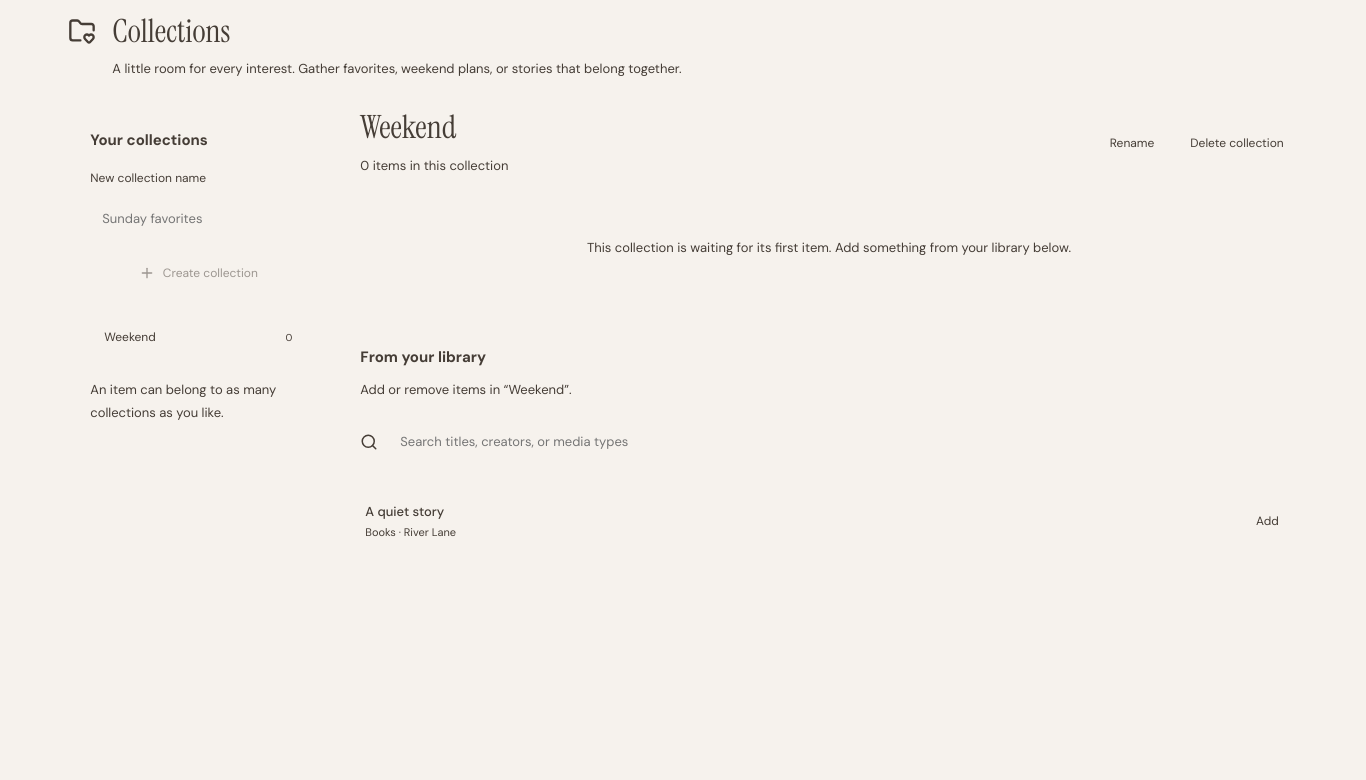
renames and requires explicit confirmation before deleting only the collection
Step 1. Click the button "Rename" → point(1132, 143), box [1096,121,1168,165]
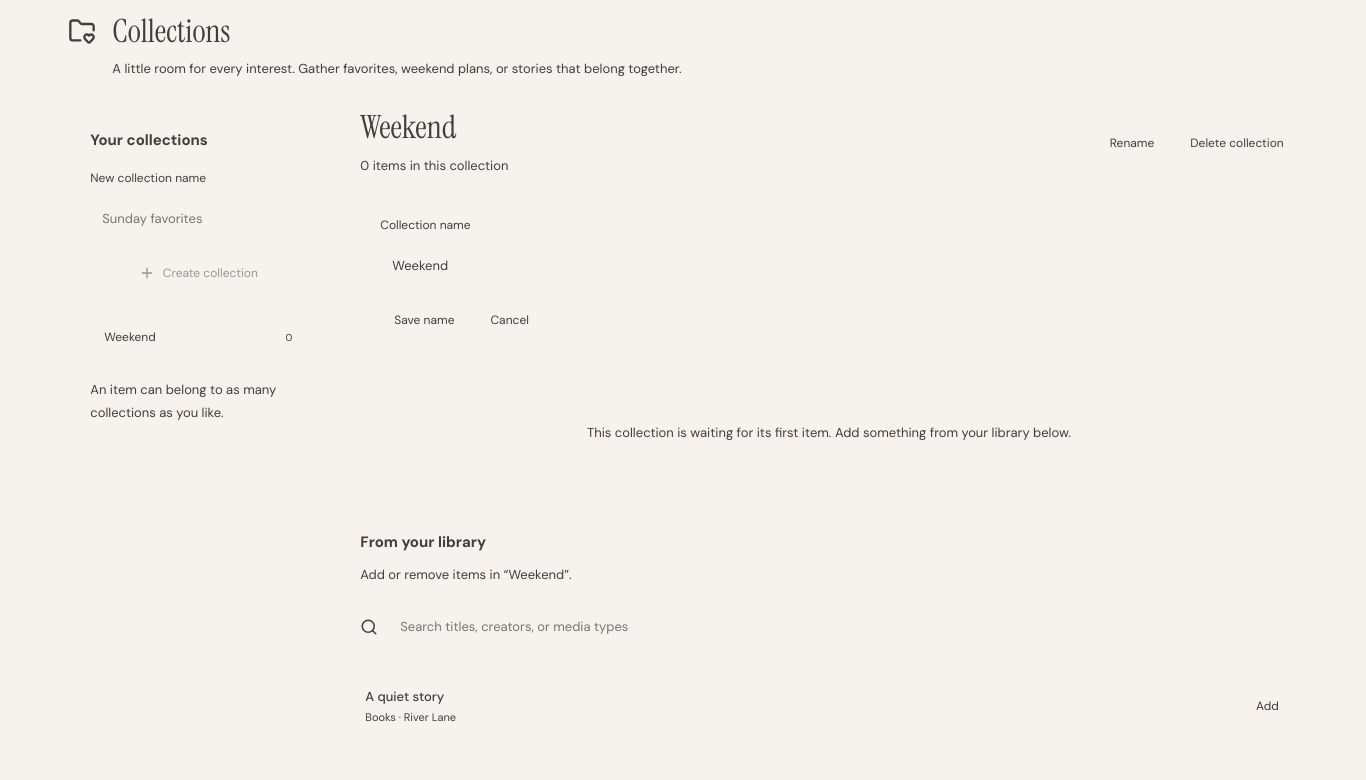
Step 2. Replace the text in the field labelled "Collection name" with "Slow Sundays" → point(829, 266), box [380,245,1278,286]
Step 3. Click the button "Save name" → point(424, 320), box [380,298,468,342]
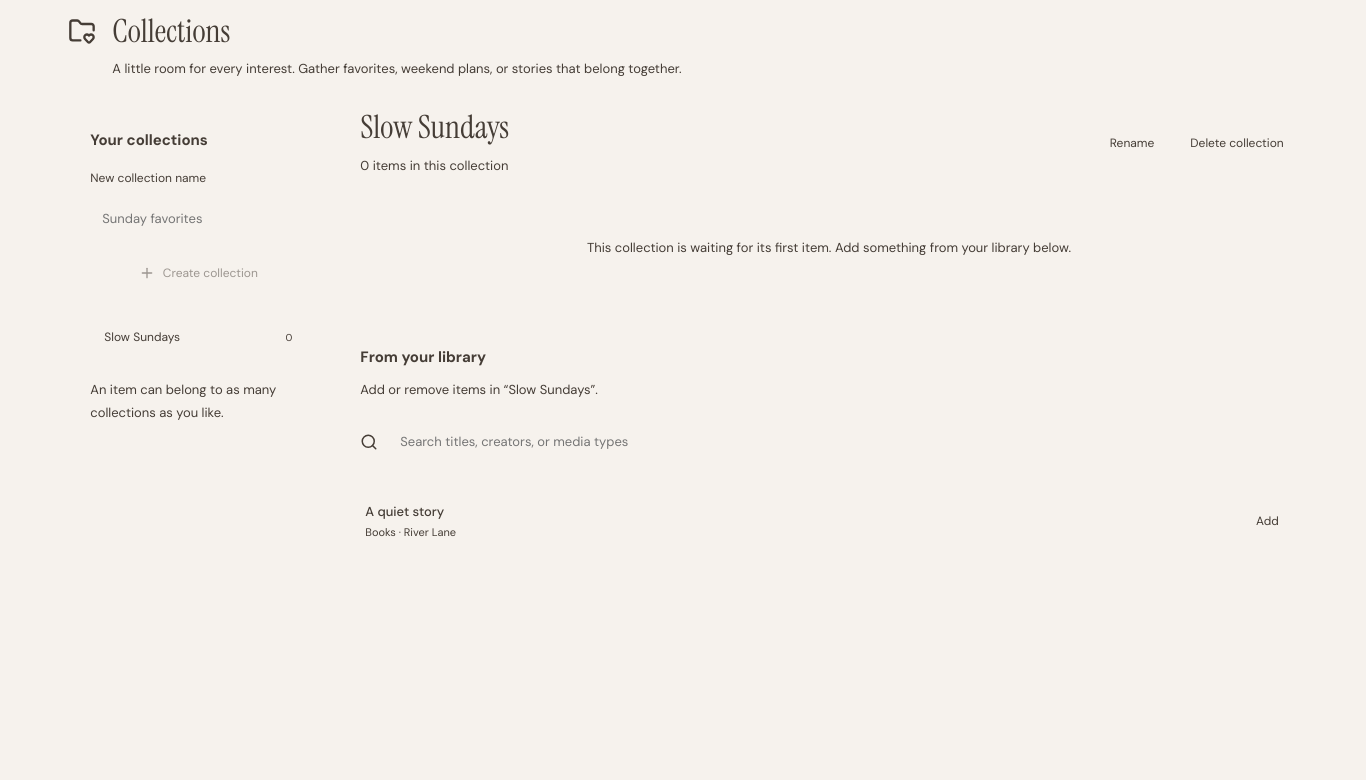
Check: the heading "Slow Sundays" is shown, box [360,108,509,147]
Step 4. Click the button "Delete collection" → point(1237, 143), box [1176,121,1298,165]
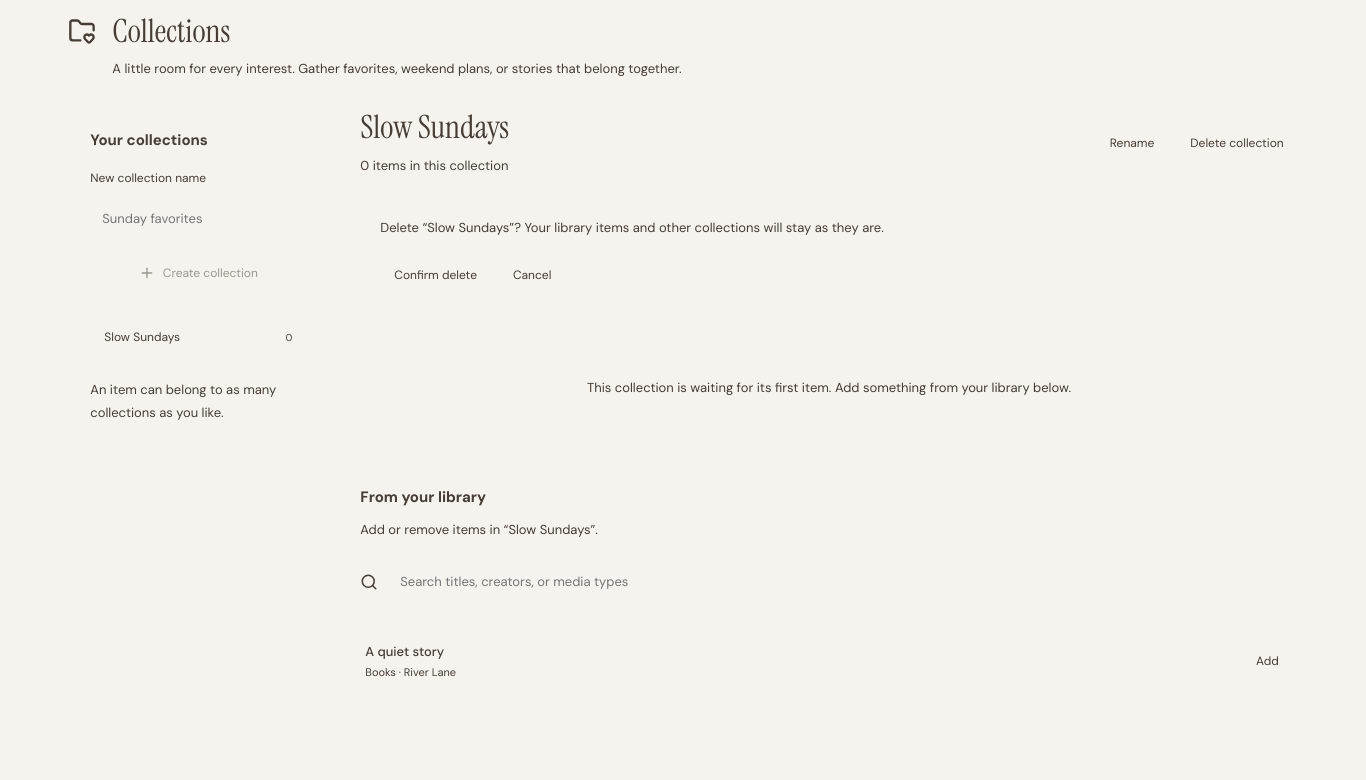
Check: the element named "Confirm collection deletion" shows "Your library items and other collections will stay as they are.", box [509,219,884,236]
Step 5. Click the button "Cancel" → point(532, 275), box [499,253,565,297]
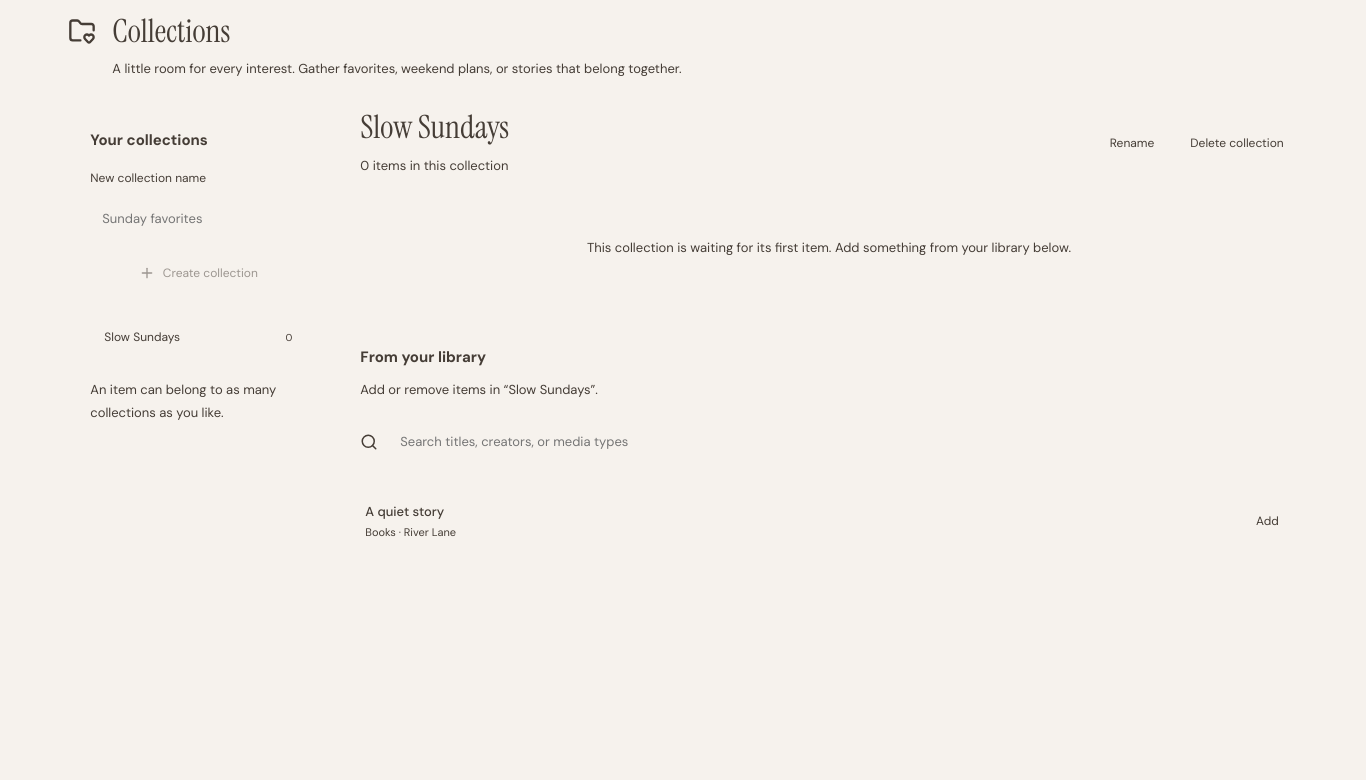
Step 6. Click the button "Delete collection" → point(1237, 143), box [1176,121,1298,165]
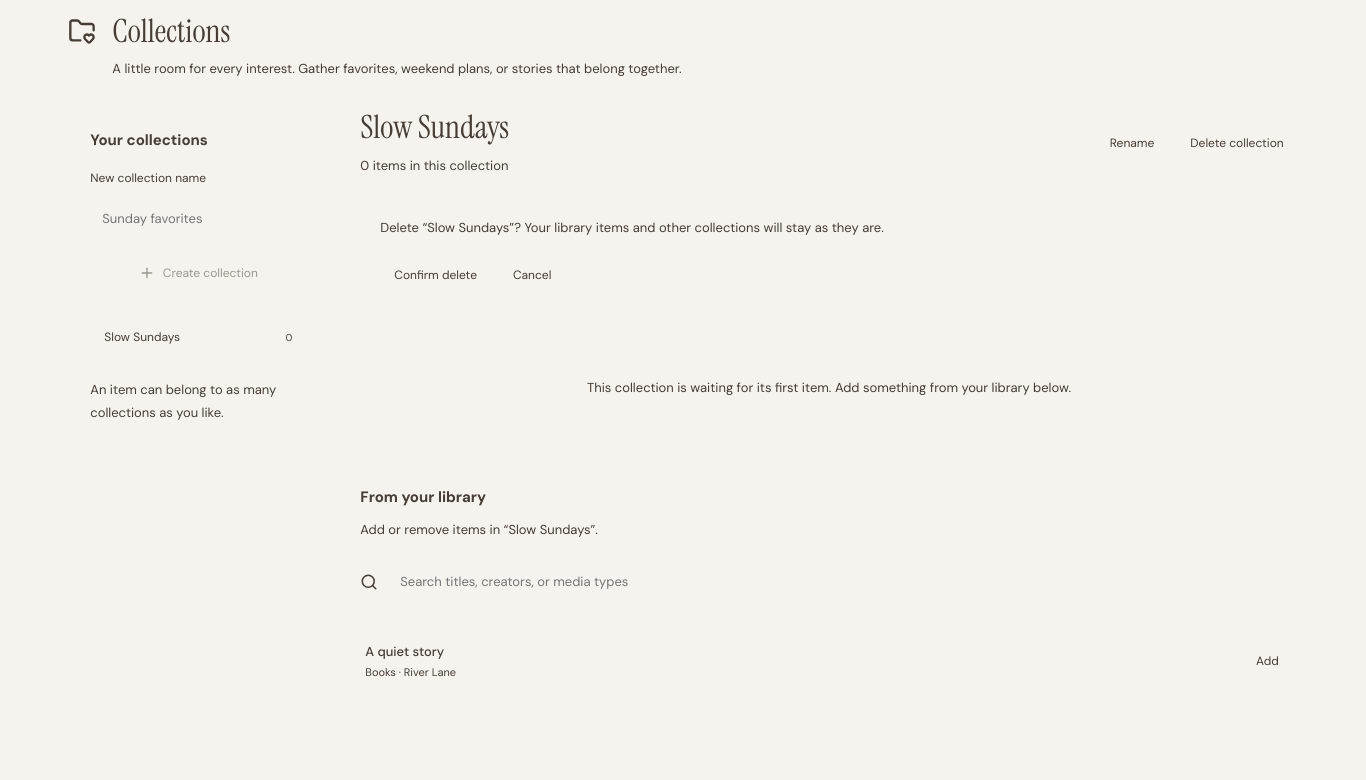
Step 7. Click the button "Confirm delete" → point(436, 275), box [380,253,491,297]
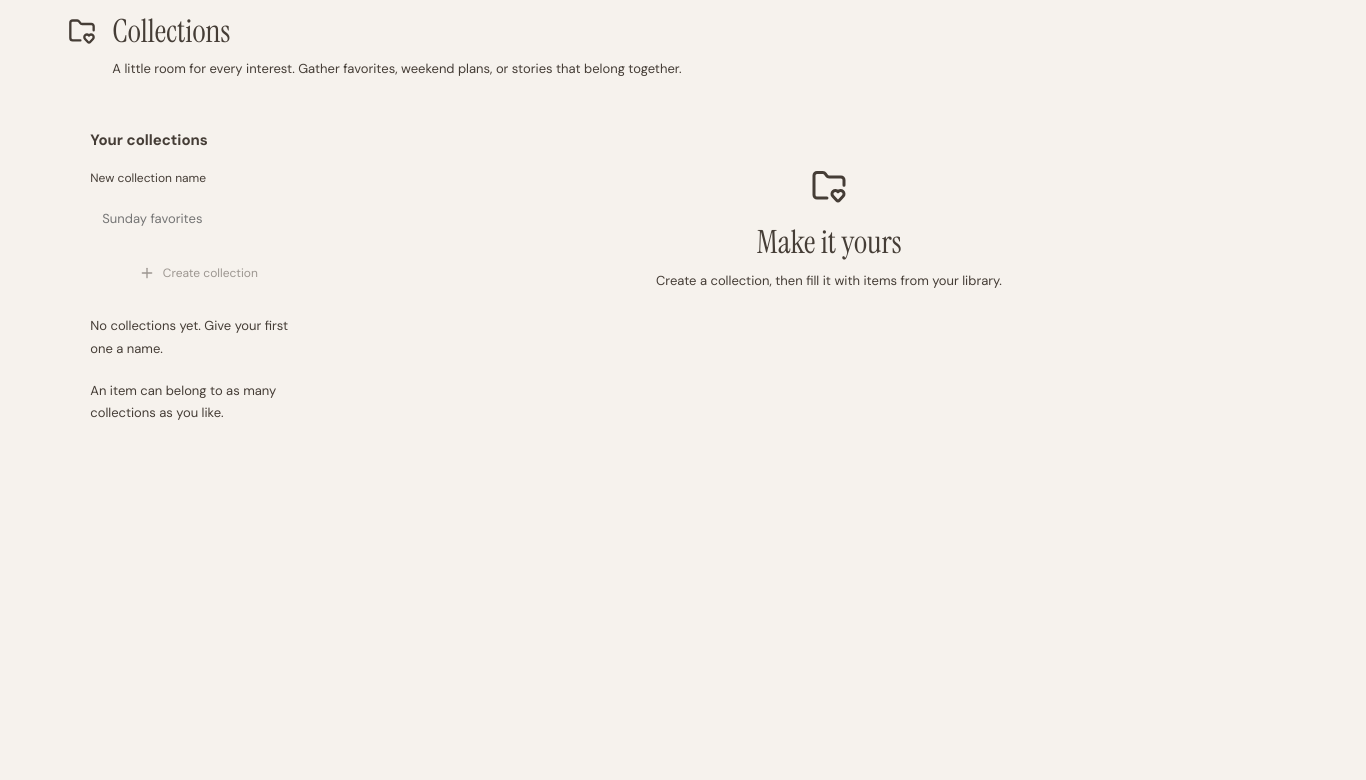
Check: the heading "Make it yours" is shown, box [756,222,902,264]
